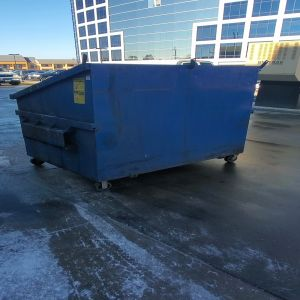Dumpster: (17, 63, 262, 193)
